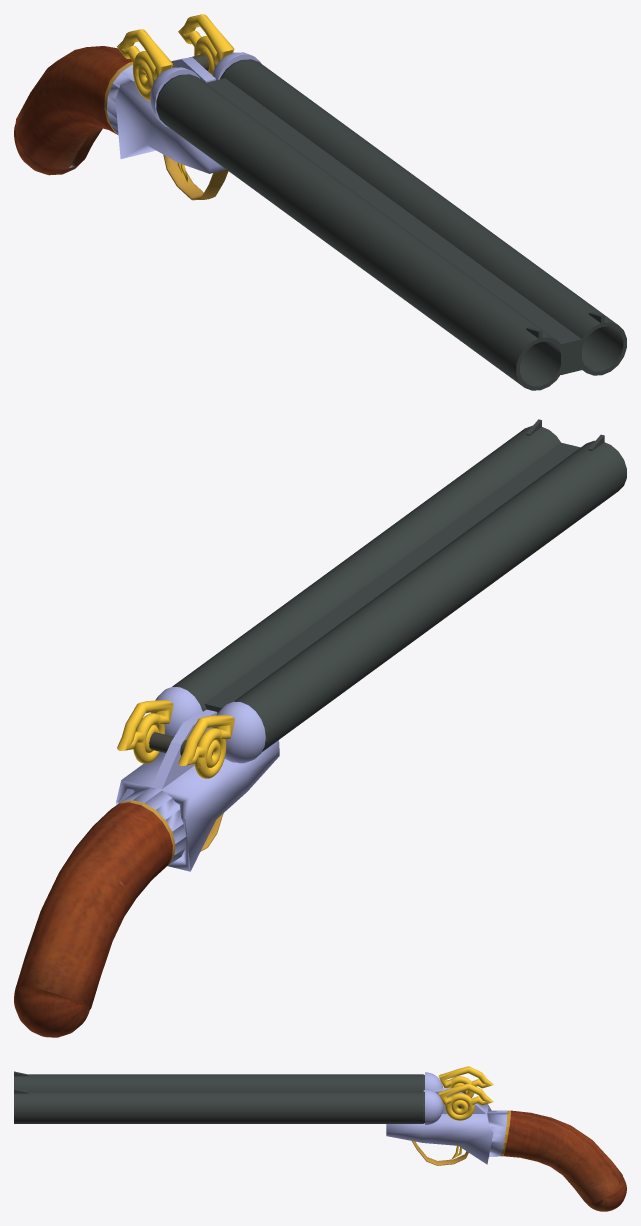
Rendered from shotgun2.fbx.
3 views of the same model, one above another, from view 1: azimuth 30°, elevation 25°; view 2: azimuth 150°, elevation 25°; view 3: azimuth 270°, elevation 25° (orthographic). The views are drawn at different scales.
Visible parts, largest first — view 1: Barrels, Trigur Gaurd, Hammers; view 2: Barrels, Trigur Gaurd, Hammers; view 3: Barrels, Trigur Gaurd, Hammers.
Part boxes in pixels (box(x1,y1,x2,y2)): Barrels: box(156, 59, 626, 390); Trigur Gaurd: box(14, 46, 261, 200); Hammers: box(117, 14, 234, 101); Barrels: box(172, 419, 626, 751); Trigur Gaurd: box(14, 687, 279, 1037); Hammers: box(117, 700, 234, 778); Barrels: box(14, 1071, 424, 1123); Trigur Gaurd: box(386, 1072, 626, 1211); Hammers: box(438, 1066, 493, 1120).
Bounding box in the file's own units: 31.95 × 65.25 × 269.
8 materials, 1 textured.
